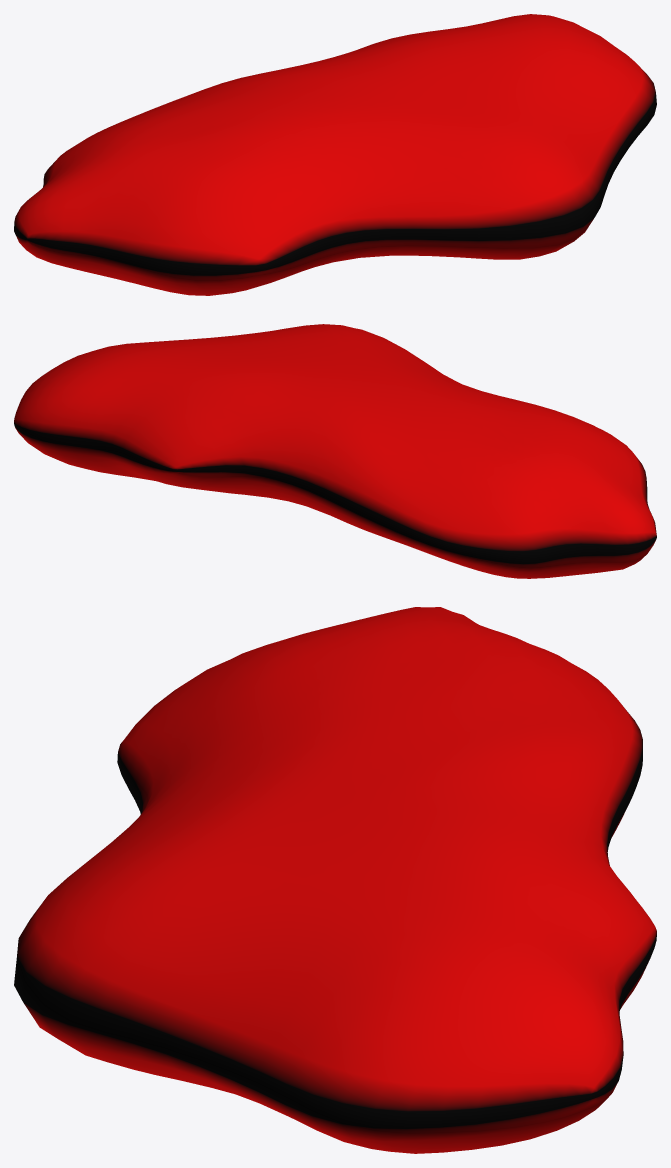
File: WaterPuddle_Half.fbx
The picture shows the model from 3 angles, top to bottom: view 1: azimuth 30°, elevation 25°; view 2: azimuth 150°, elevation 25°; view 3: azimuth 270°, elevation 25°; orthographic projection. The views are drawn at different scales.
Parts seen in each view (by area): view 1: WaterPuddle_Half; view 2: WaterPuddle_Half; view 3: WaterPuddle_Half.
Boxes of the visible parts, left/top/right/bottom form: WaterPuddle_Half: left=14, top=14, right=656, bottom=295; WaterPuddle_Half: left=14, top=324, right=656, bottom=578; WaterPuddle_Half: left=14, top=607, right=656, bottom=1153.
Bounding box in the file's own units: 1.75 × 0.372 × 0.9572.
